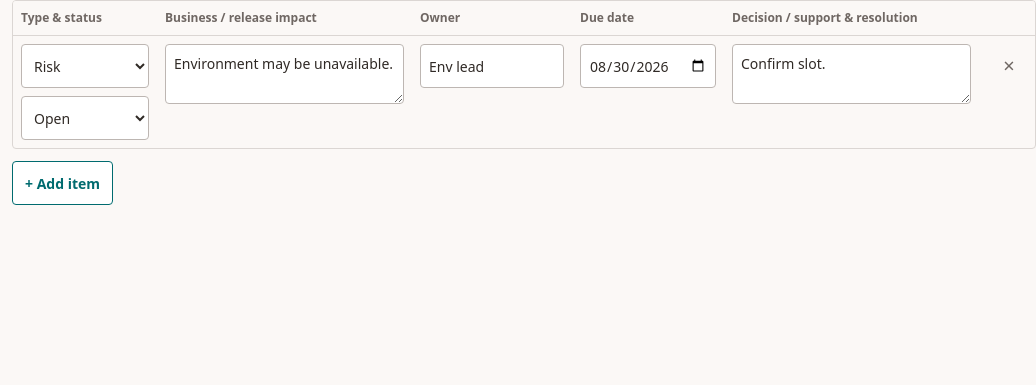
ExceptionEditor › reveals resolution date and note when an item is marked Resolved
Select "Resolved" in the dropdown named "Exception 1 status" at (85, 118), box [21, 96, 149, 140]
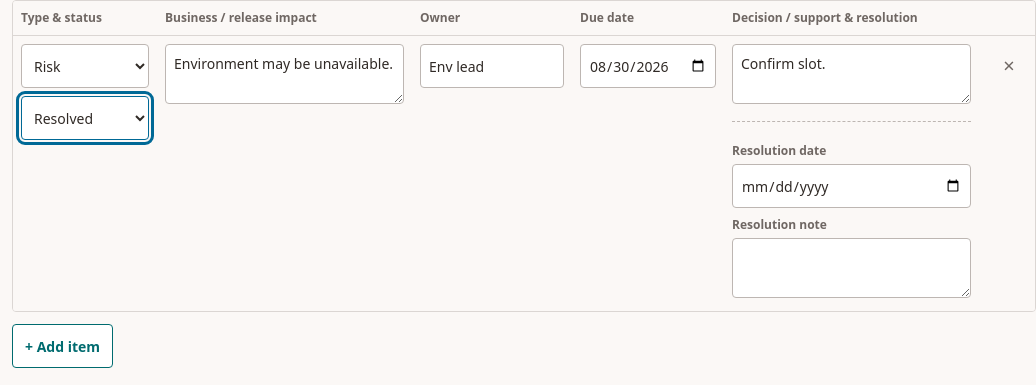
Result: the date field labelled "Resolution date" is shown at [732, 164, 971, 208]
Result: the text box labelled "Resolution note" is shown at [732, 238, 971, 298]
